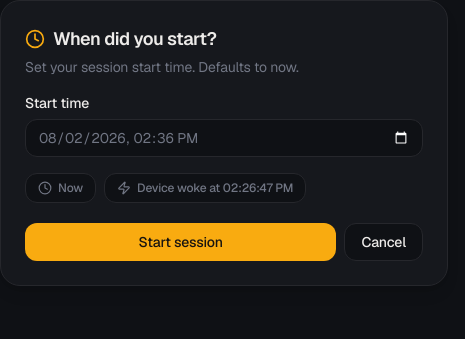
Test: StartSessionFlow › shows error when startSession fails
Click the button "Start session": point(181, 242) [25,223,336,261]
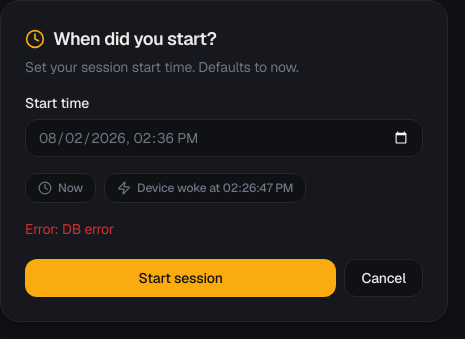
Expected: the message "Error: DB error" is shown, [25,220,114,238]
